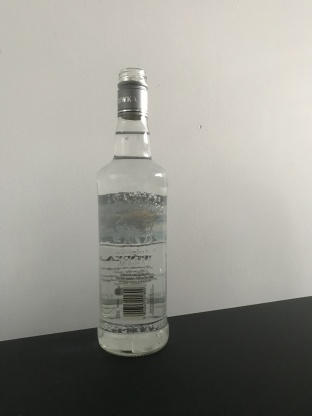nakretka: (115, 64, 150, 121)
